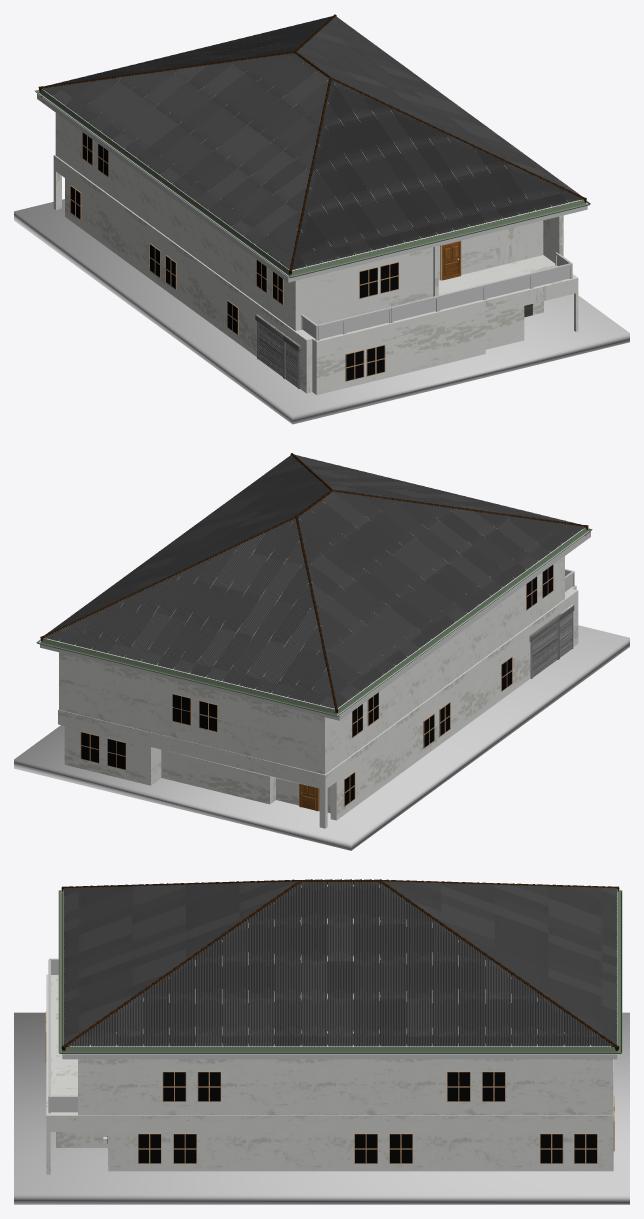
File: Exterior Rumah.fbx
The picture shows the model from 3 angles, top to bottom: view 1: azimuth 30°, elevation 25°; view 2: azimuth 150°, elevation 25°; view 3: azimuth 270°, elevation 25°; orthographic projection. The views are drawn at different scales.
Parts seen in each view (by area): view 1: Atap, RollingShutter.001, Plane, pinggirjendela.024, pinggirjendela.009, Atap.001, RollingShutter.011, door.001, windows.010; view 2: Atap, pinggirjendela.024, RollingShutter.001, Plane, Atap.001, RollingShutter.011; view 3: Atap, Plane, RollingShutter.001, pinggirjendela.024, Atap.001, pinggirjendela.009, windows.018, windows.013, windows.014, windows.015, windows.017, windows.020 (+4 smaller).
Part boxes in pixels (bbox=[...]): Atap: bbox=[35, 14, 590, 277]; RollingShutter.001: bbox=[53, 155, 578, 394]; Plane: bbox=[14, 199, 629, 424]; pinggirjendela.024: bbox=[55, 113, 563, 330]; pinggirjendela.009: bbox=[301, 252, 572, 340]; Atap.001: bbox=[37, 93, 587, 282]; RollingShutter.011: bbox=[255, 314, 300, 388]; door.001: bbox=[442, 241, 460, 280]; windows.010: bbox=[345, 349, 364, 381]; Atap: bbox=[36, 453, 592, 716]; pinggirjendela.024: bbox=[59, 556, 564, 774]; RollingShutter.001: bbox=[58, 585, 578, 828]; Plane: bbox=[14, 625, 629, 850]; Atap.001: bbox=[40, 531, 590, 720]; RollingShutter.011: bbox=[529, 605, 574, 678]; Atap: bbox=[58, 879, 622, 1054]; Plane: bbox=[14, 1012, 629, 1204]; RollingShutter.001: bbox=[46, 974, 613, 1174]; pinggirjendela.024: bbox=[78, 1059, 613, 1115]; Atap.001: bbox=[62, 1054, 617, 1059]; pinggirjendela.009: bbox=[48, 958, 77, 1113]; windows.018: bbox=[162, 1071, 186, 1101]; windows.013: bbox=[173, 1133, 196, 1163]; windows.014: bbox=[354, 1133, 377, 1163]; windows.015: bbox=[389, 1133, 412, 1163]; windows.017: bbox=[574, 1133, 597, 1163]; windows.020: bbox=[447, 1071, 470, 1101].
Bounding box in the file's own units: 2513 × 1506 × 3598.
